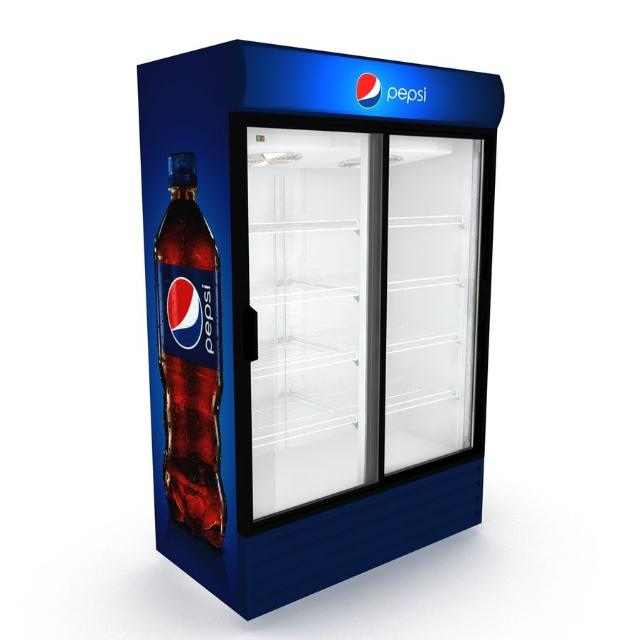Cooling-Display: (130, 42, 506, 620)
